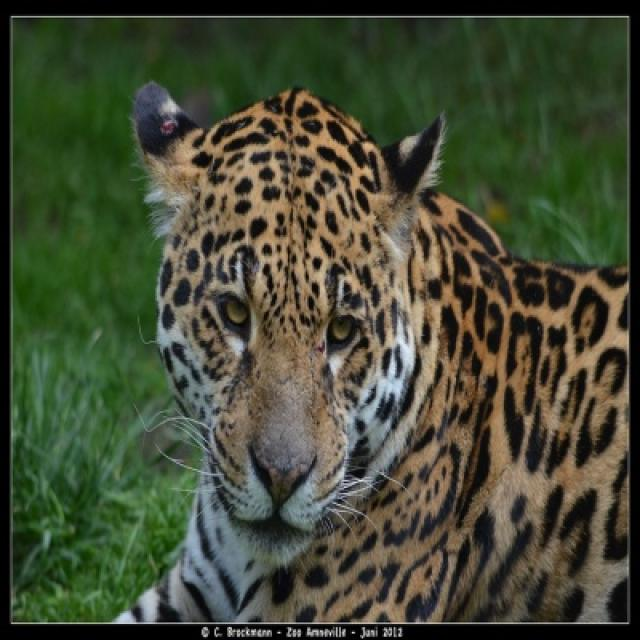not_pig: (109, 80, 630, 624)
